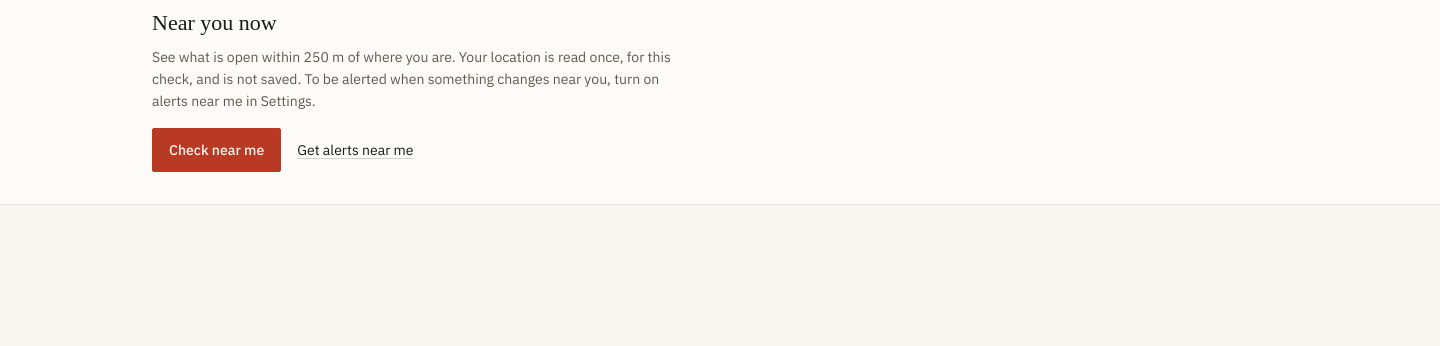
Test case: Near you now (home) › reads the location once on a press and lists what is open nearby
The image size is (1440, 346).
What coordinates should you click on to do the following:
click the button "Check near me"
I would click on:
 (217, 150)
Its box is [152,128,281,172].
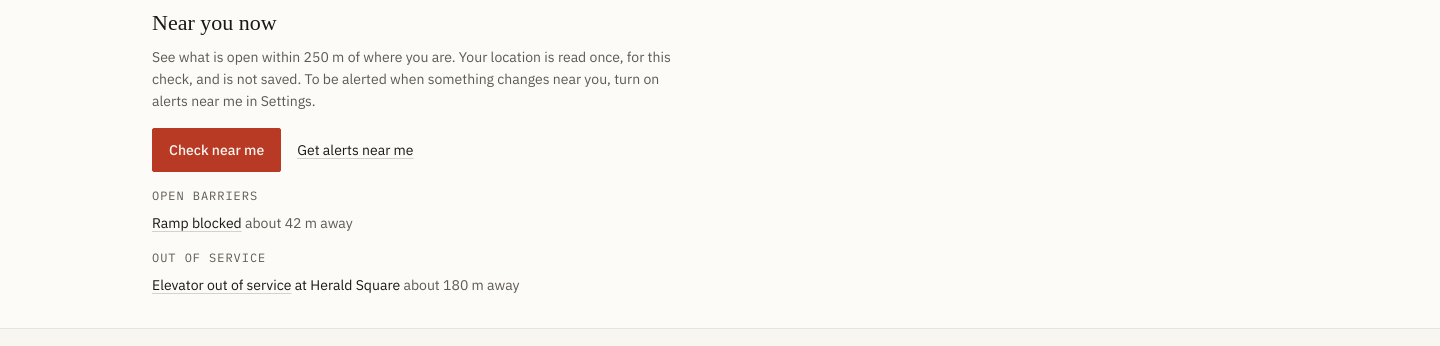
Now the link "Elevator out of service" is shown, box [152,276,291,294]
Now the text "at Herald Square" is shown, box [291,276,400,294]
